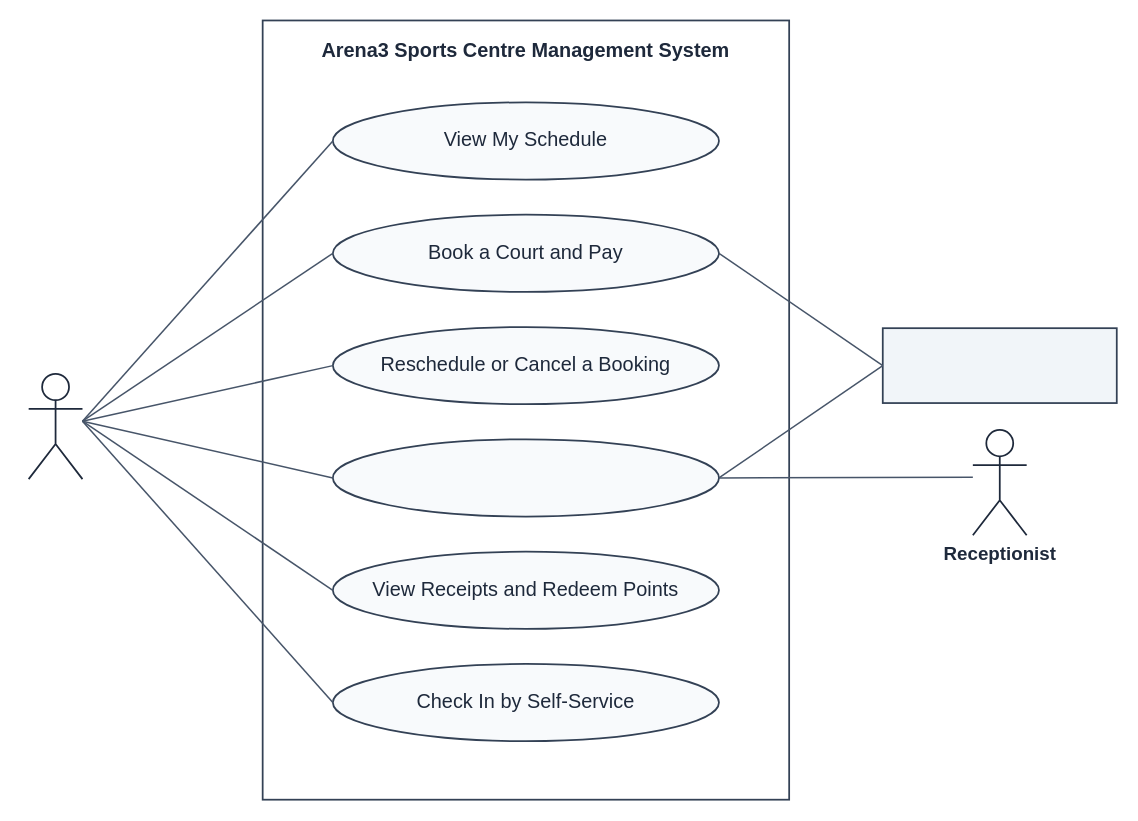
Image size: 1138x821. Some labels were removed from this diagram. The shapes that lost their labels are listed below. From the top down, each one's centre as x and y in pixels, then its label:
the point at 999,365: «actor» payOS
the point at 55,425: Member
the point at 525,477: Order a Membership Plan
